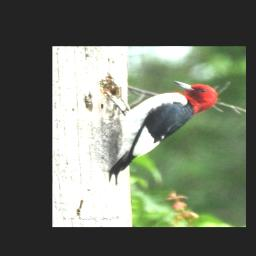Woodpecker: (109, 80, 218, 184)
